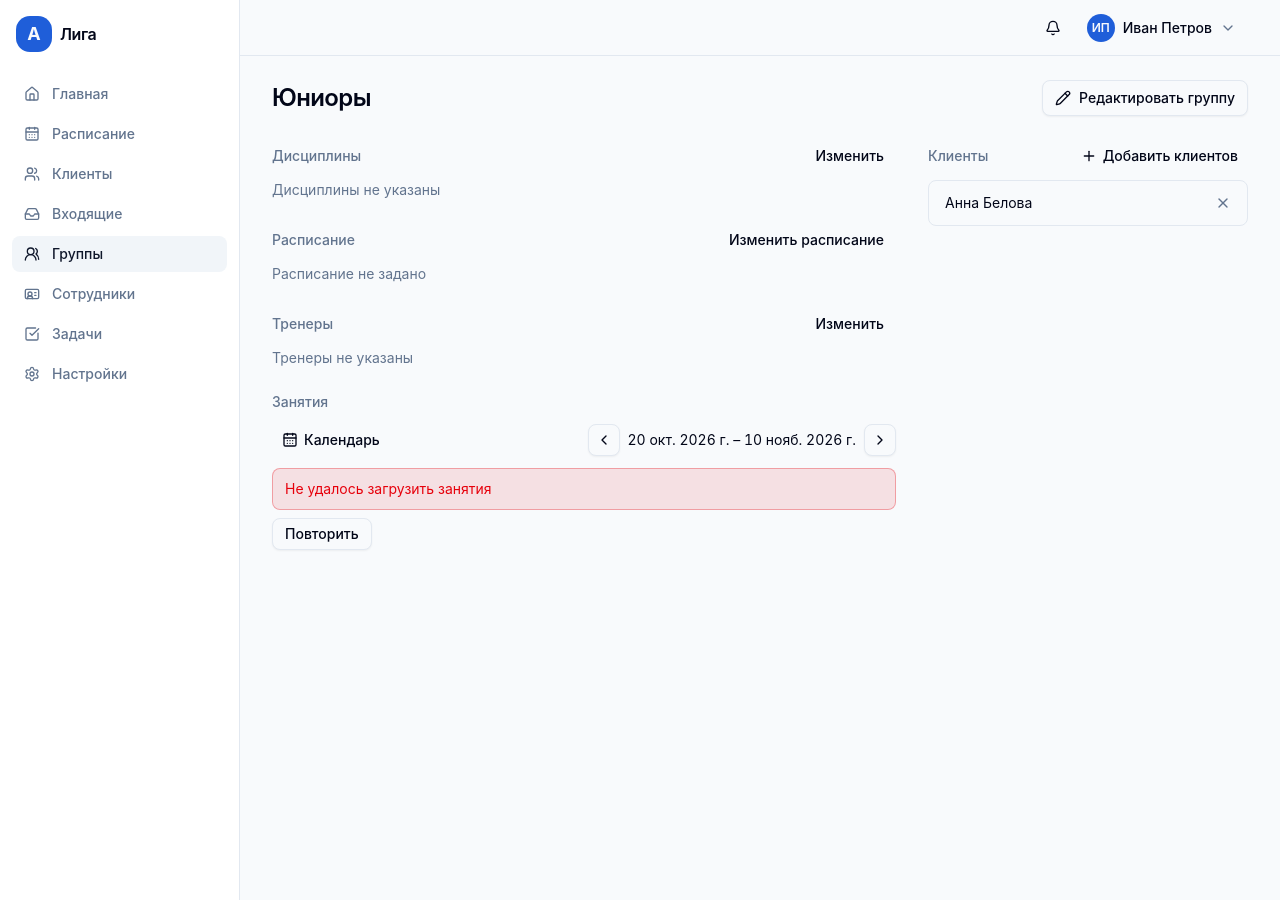
Scenario: состав группы в карточке › добавляет нескольких клиентов одним запросом; клиент из состава недоступен
Click the button "Добавить клиентов": {"x": 1159, "y": 156} [1071, 140, 1248, 172]
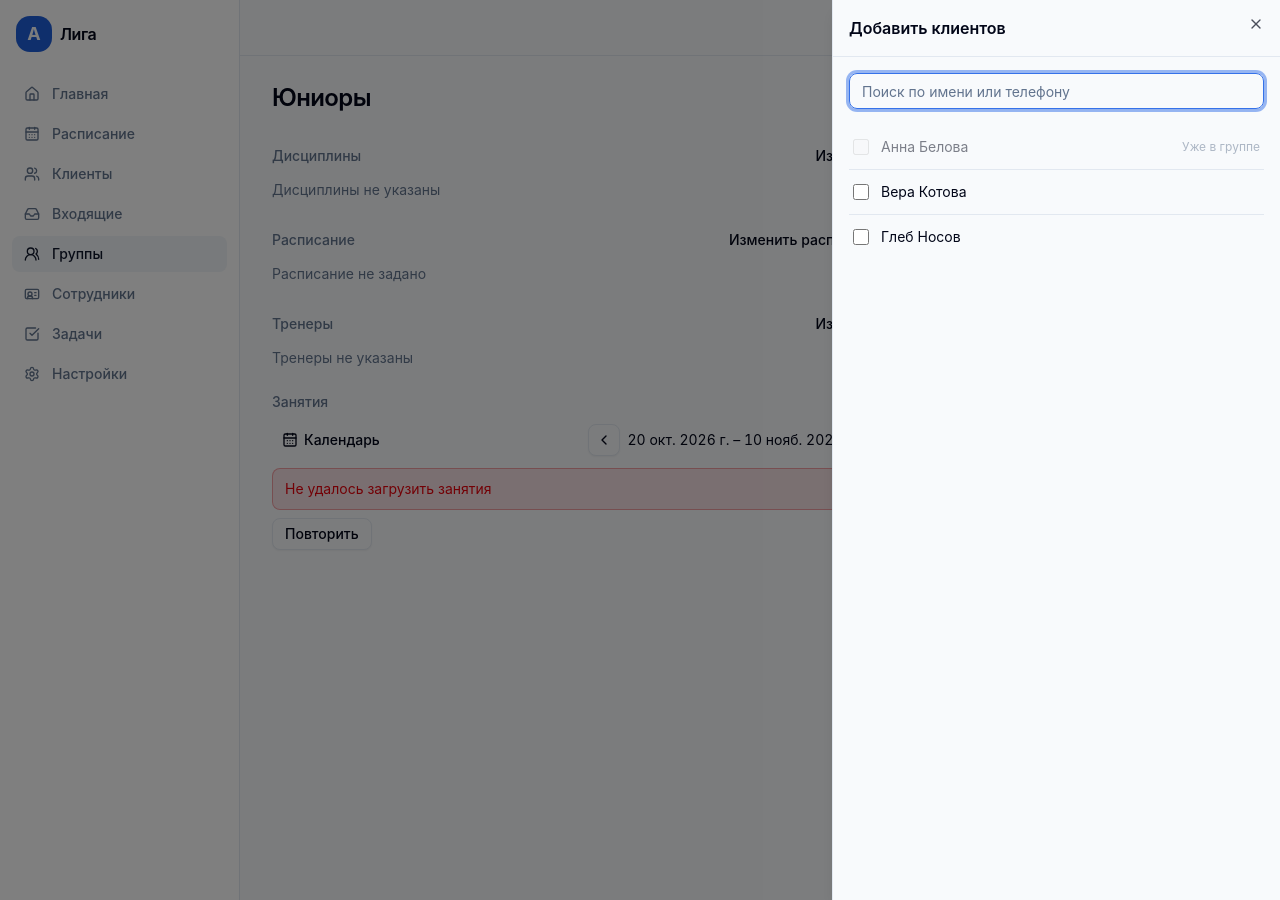
Expected: the text "Уже в группе" is shown, [1182, 139, 1260, 155]
Click the checkbox labelled "Вера Котова": {"x": 861, "y": 192} [853, 184, 869, 200]
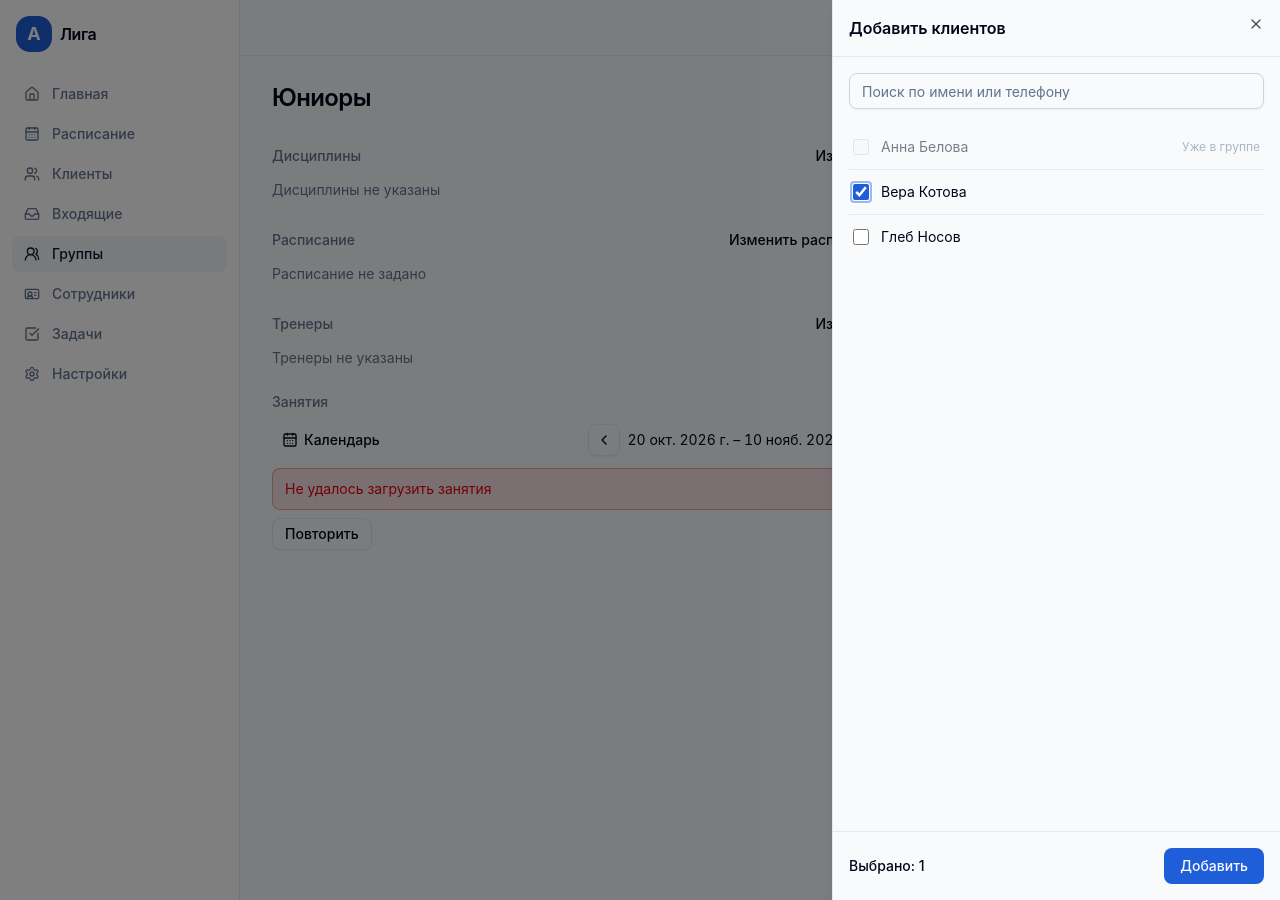
Click the checkbox labelled "Глеб Носов": {"x": 861, "y": 237} [853, 229, 869, 245]
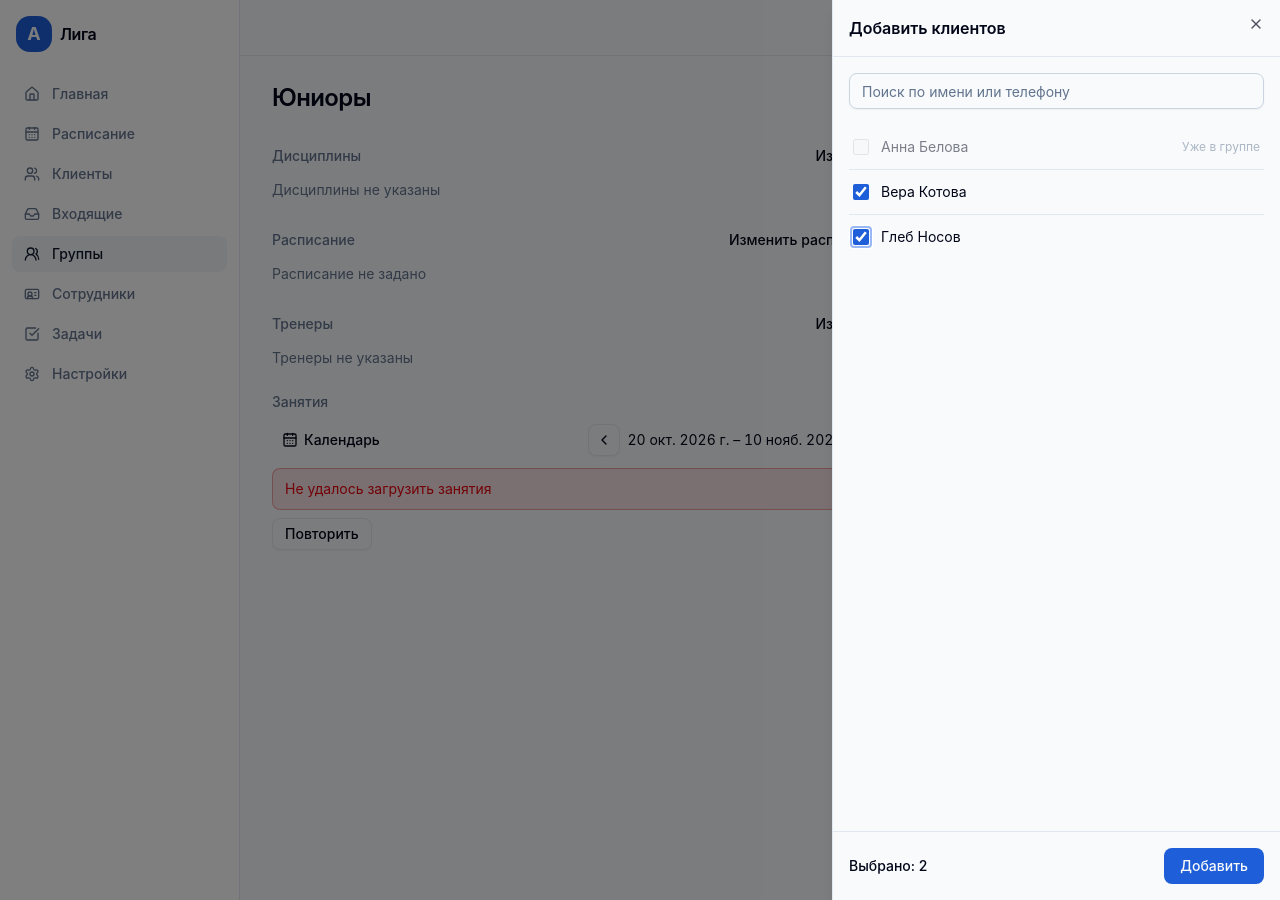
Click the button "Добавить": {"x": 1214, "y": 866} [1164, 848, 1264, 884]
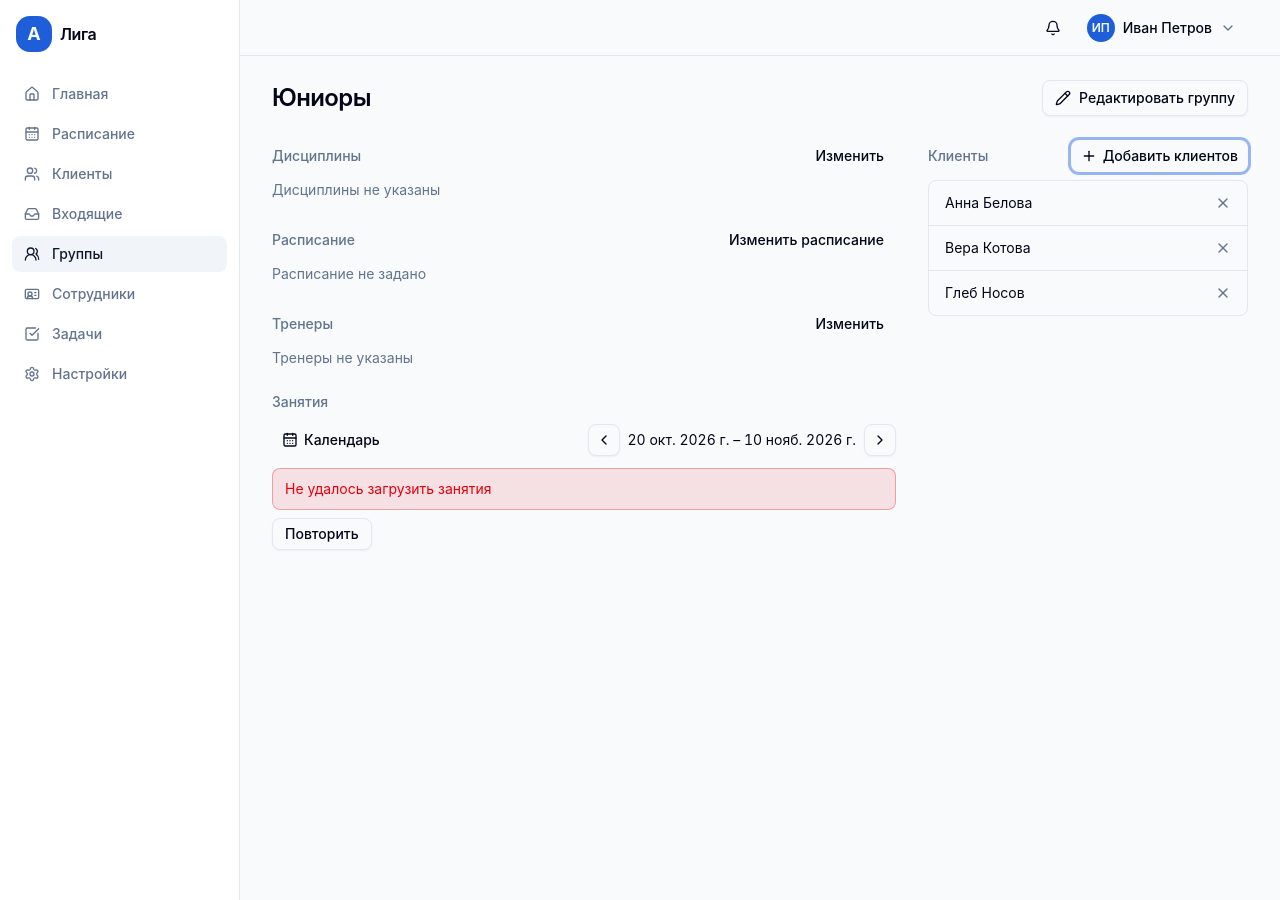
Expected: the link "Вера Котова" is shown, [945, 239, 1030, 256]
Expected: the link "Глеб Носов" is shown, [945, 284, 1025, 301]
Expected: the dialog is gone
